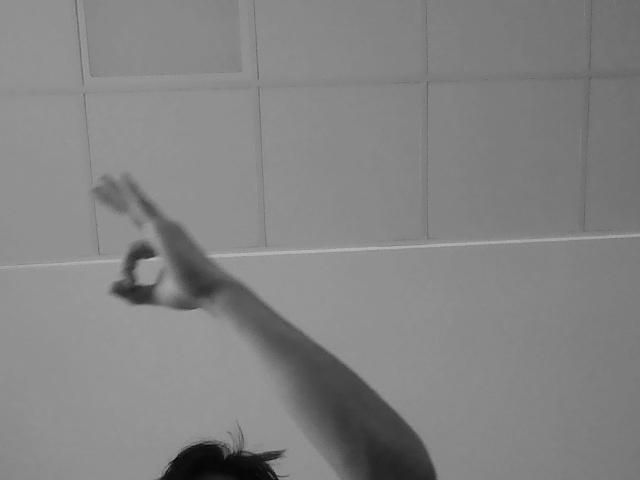OK: (77, 175, 211, 317)
